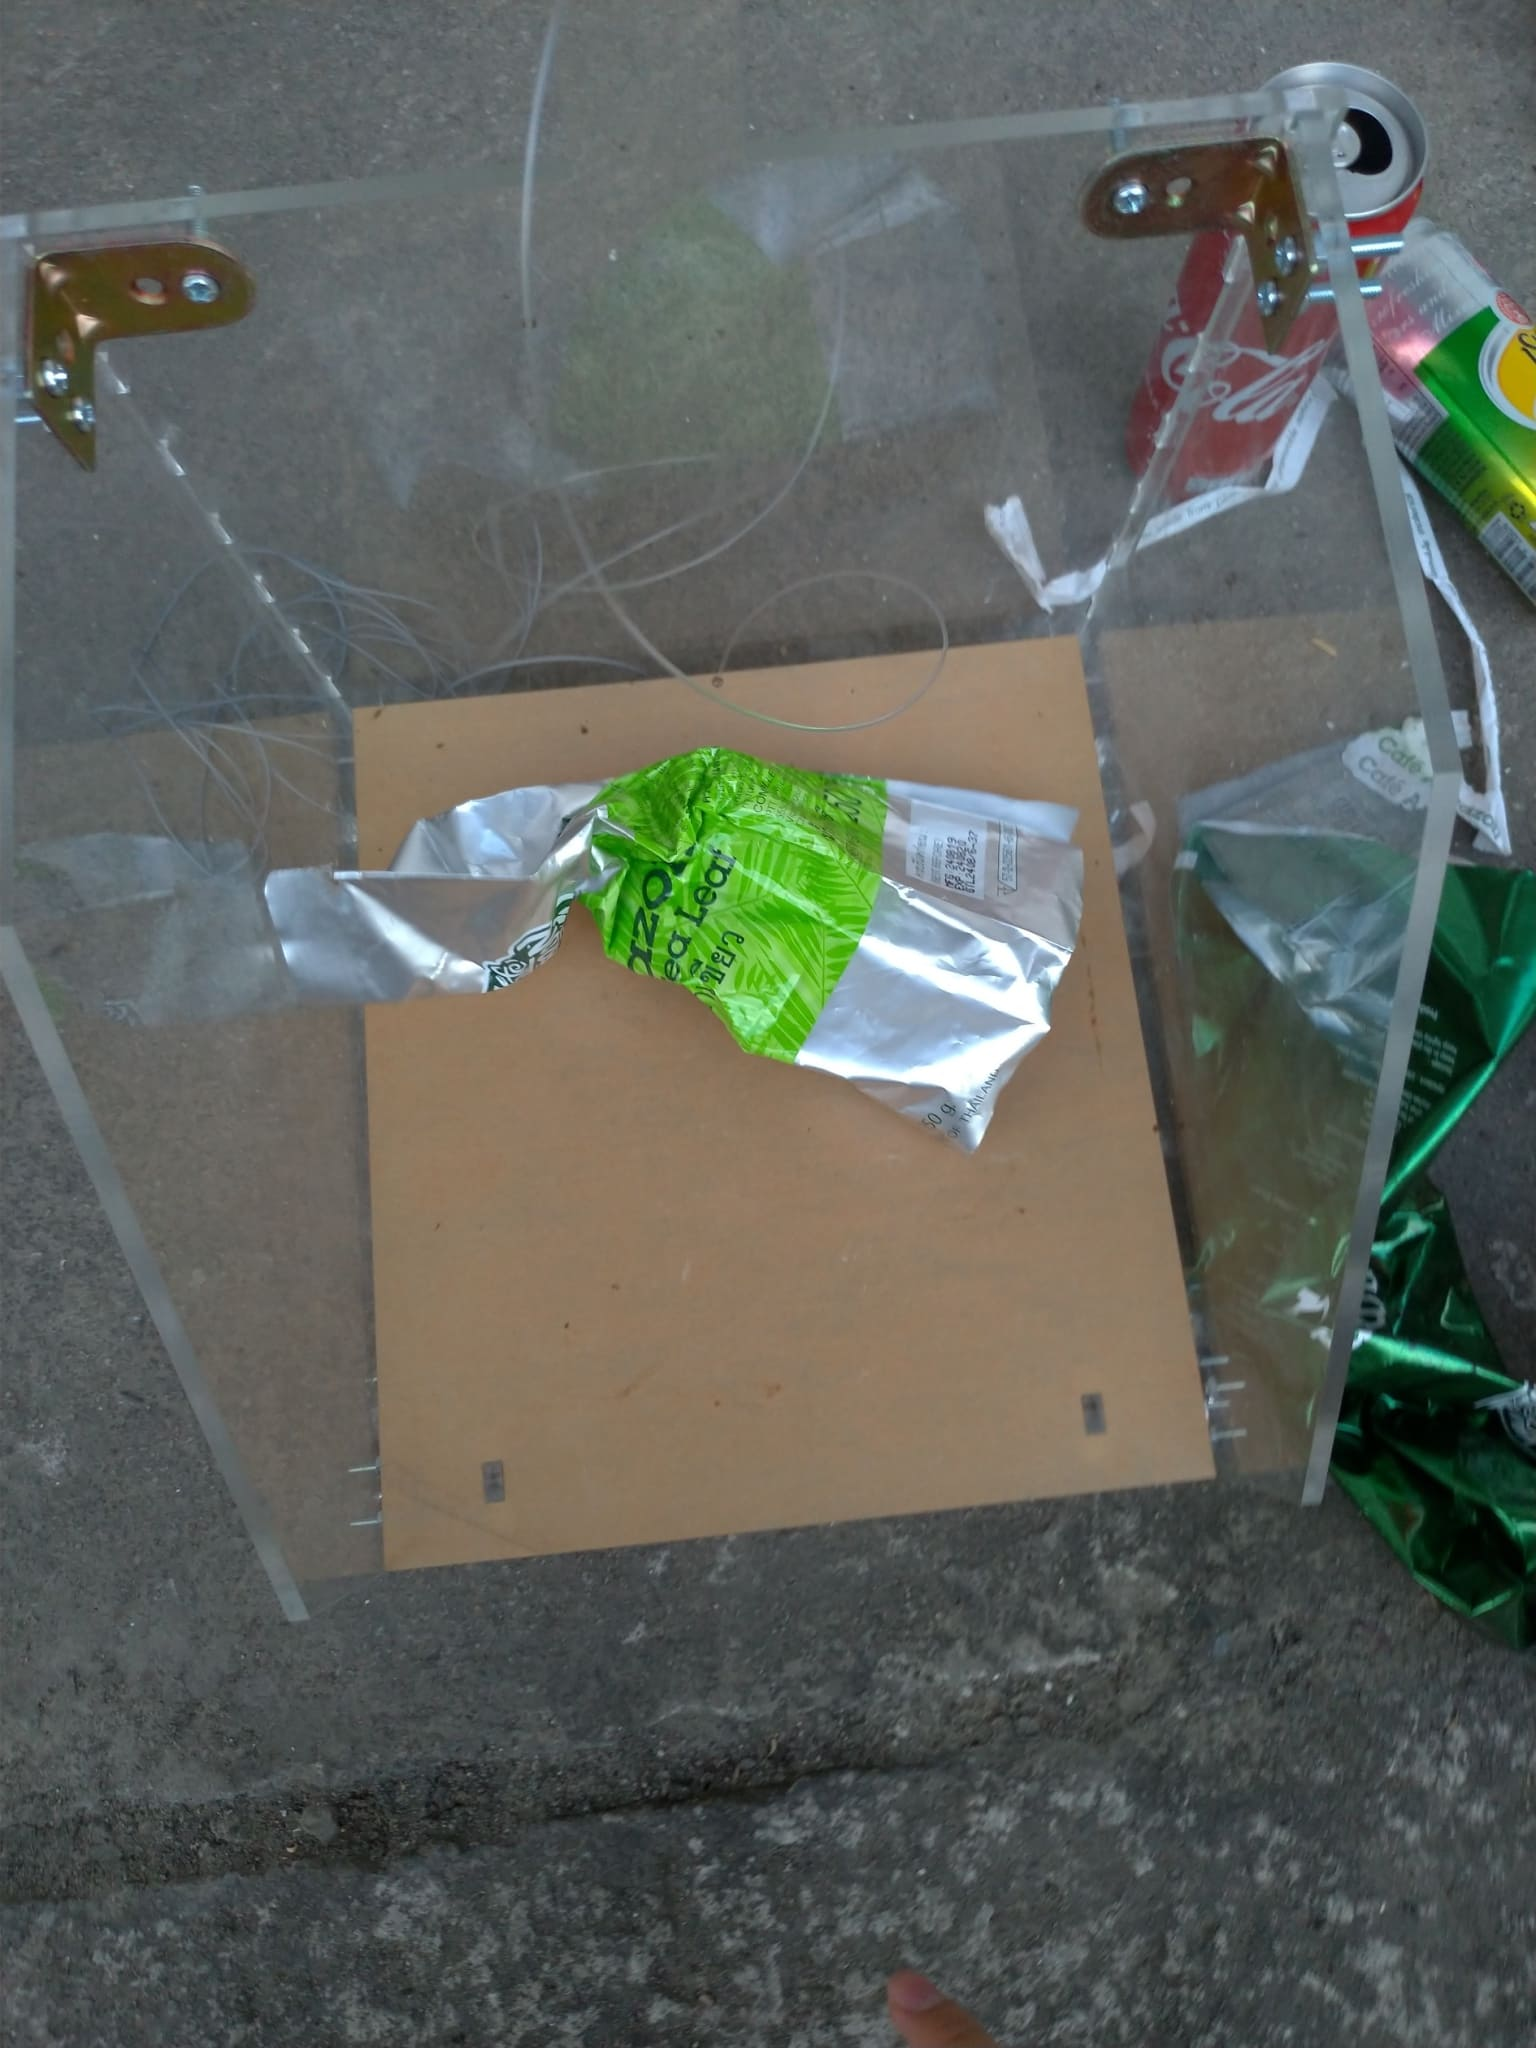AlCan: (1125, 68, 1430, 505), (1350, 239, 1536, 597)
Others: (260, 768, 1091, 1155), (1171, 814, 1536, 1651)
